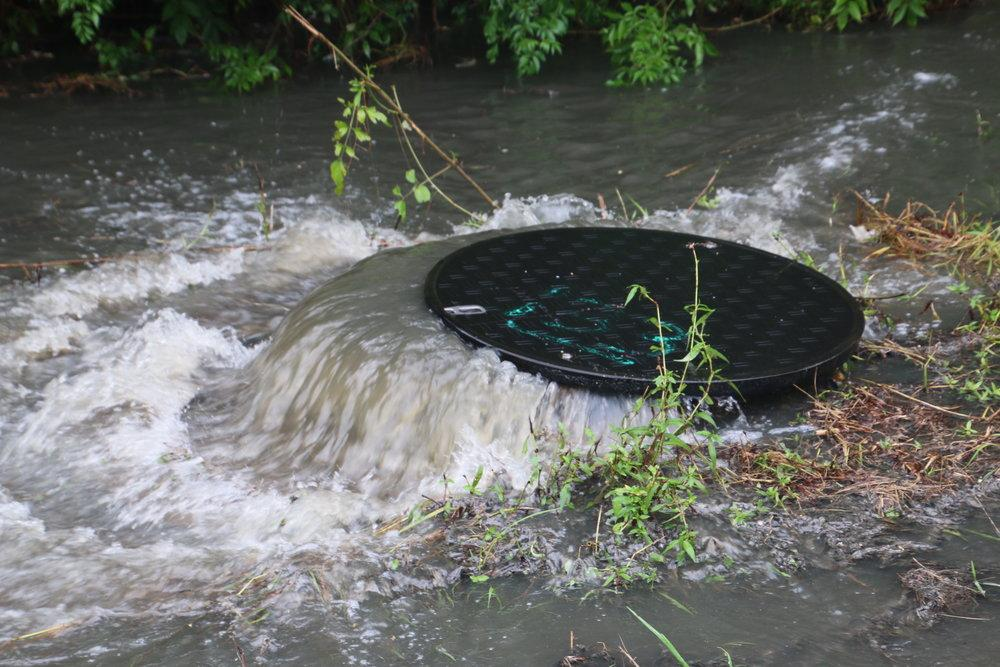drainage_overflow: (49, 162, 911, 587)
